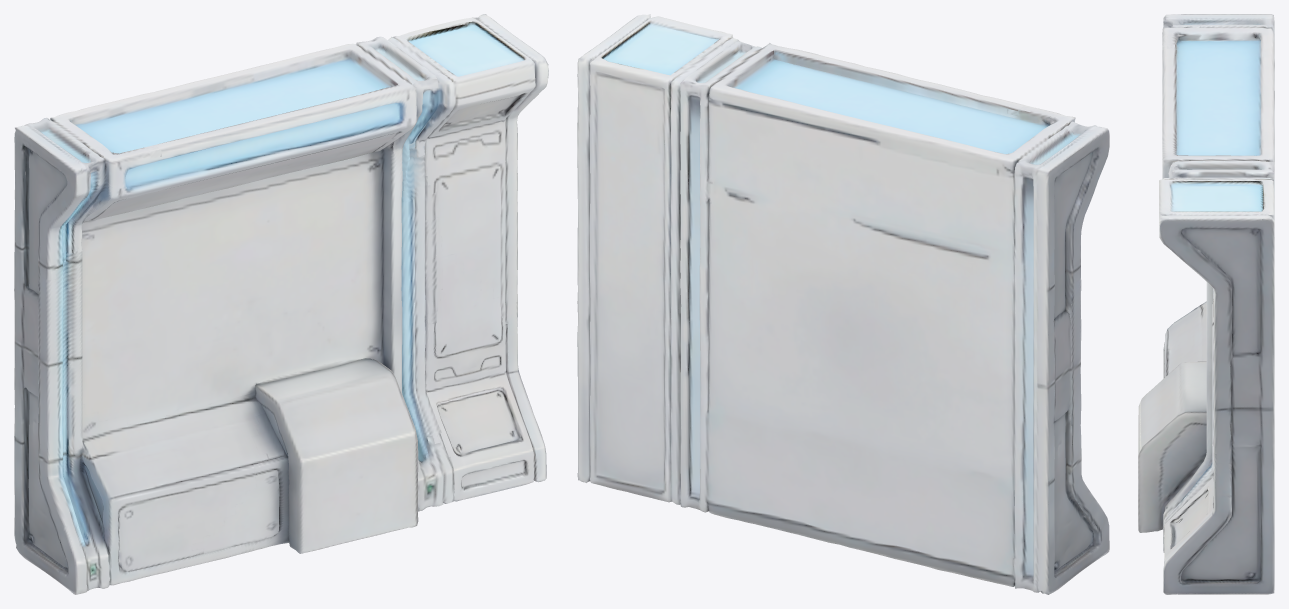
Rendered from bio_wall_basic.fbx.
3 renders of one model, left to right at view 1: azimuth 30°, elevation 25°; view 2: azimuth 150°, elevation 25°; view 3: azimuth 270°, elevation 25°, orthographic. The views are drawn at different scales.
Parts seen in each view (by area): view 1: model; view 2: model; view 3: model.
Boxes of the visible parts, box(x1,y1,x2,y2) form: model: box(14, 14, 548, 594); model: box(577, 14, 1109, 594); model: box(1138, 14, 1274, 594).
Bounding box in the file's own units: 190 × 164 × 53.65.
